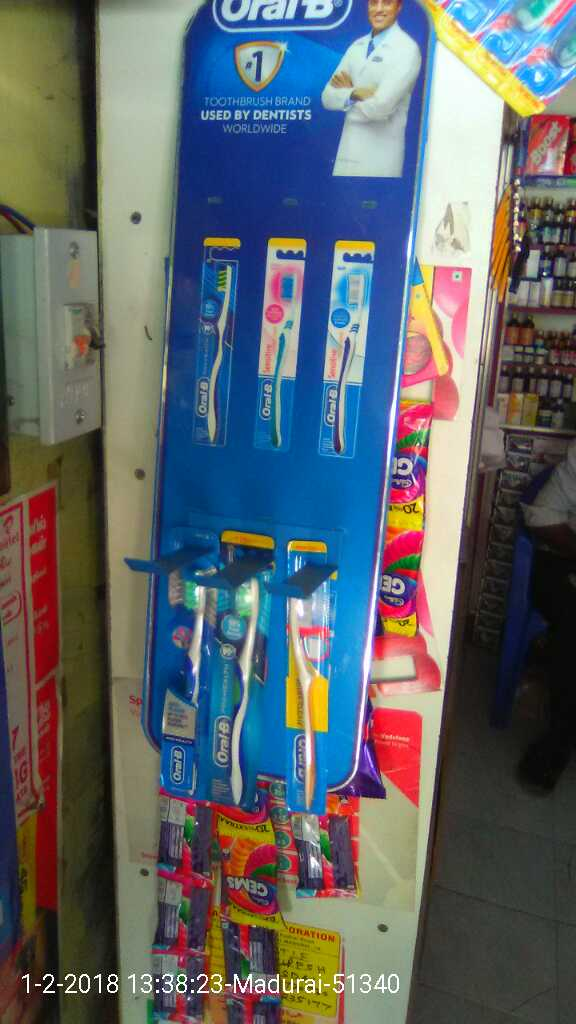oralb: (280, 589, 343, 829), (162, 576, 216, 795), (226, 583, 264, 817)
